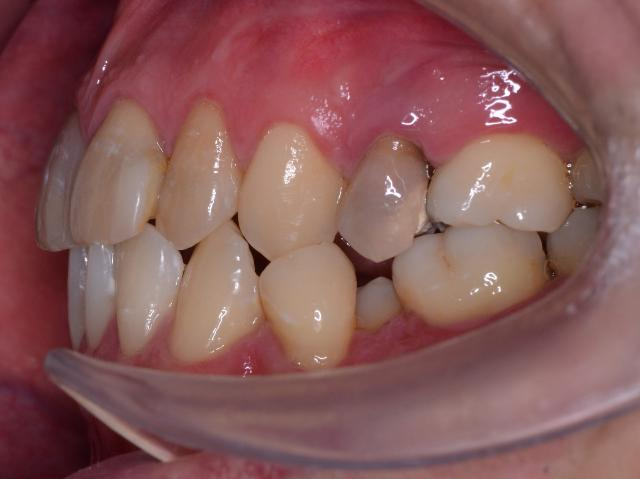canine class II full class: (161, 86, 357, 376)
molar class II 1/2: (388, 111, 576, 342)
